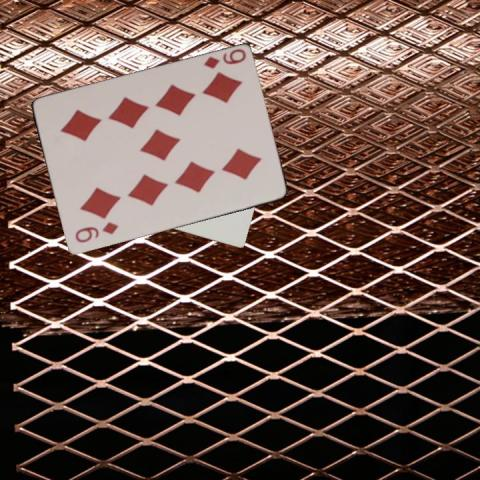9d: (71, 219, 120, 245), (200, 46, 247, 71)
